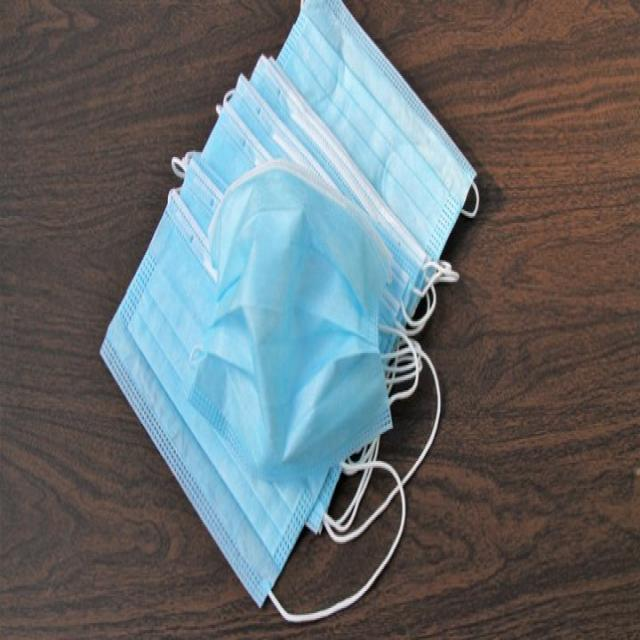non-organic waste: (96, 0, 472, 613), (197, 171, 417, 461)
